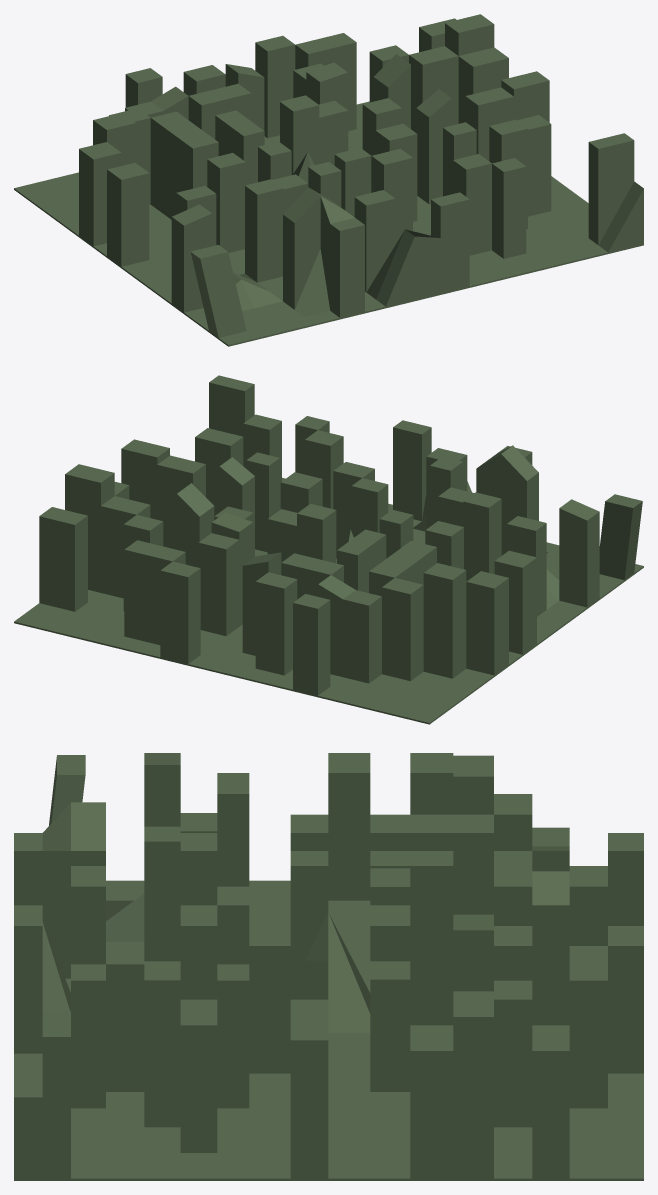
The model's file is grass.glb.
3 views of the same model, one above another, from view 1: azimuth 30°, elevation 25°; view 2: azimuth 150°, elevation 25°; view 3: azimuth 270°, elevation 25° (orthographic). The views are drawn at different scales.
Parts seen in each view (by area): view 1: Cube; view 2: Cube; view 3: Cube.
Part boxes in pixels (x1,y1,x2,y2): Cube: (14,14,643,346); Cube: (14,375,643,724); Cube: (14,753,643,1180).
Size of the model in its own units: 2.07 by 0.5146 by 1.79.
